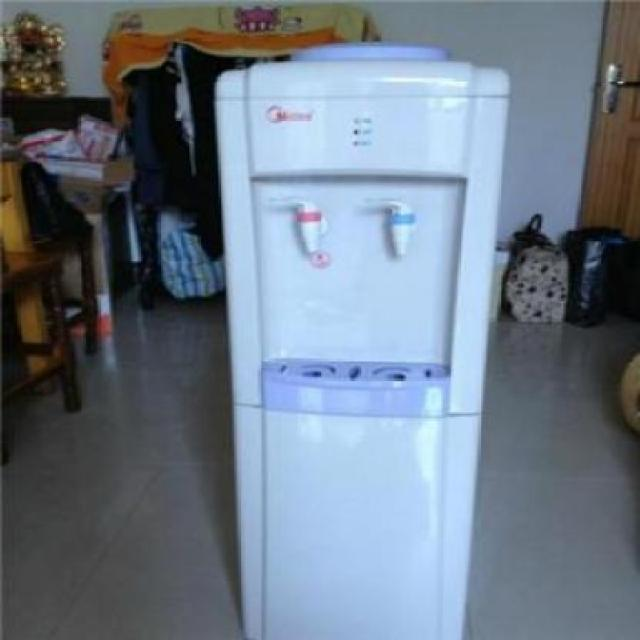cooler: (216, 40, 518, 640)
